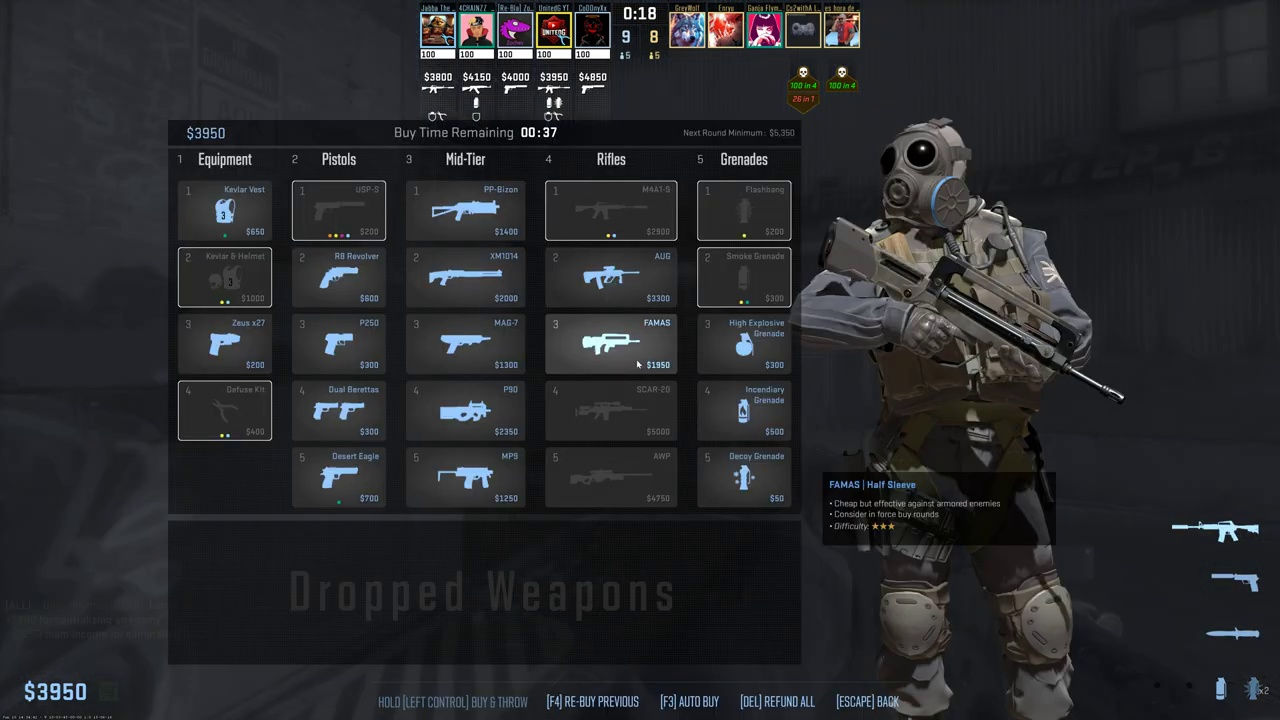CT: (857, 125, 1077, 718)
